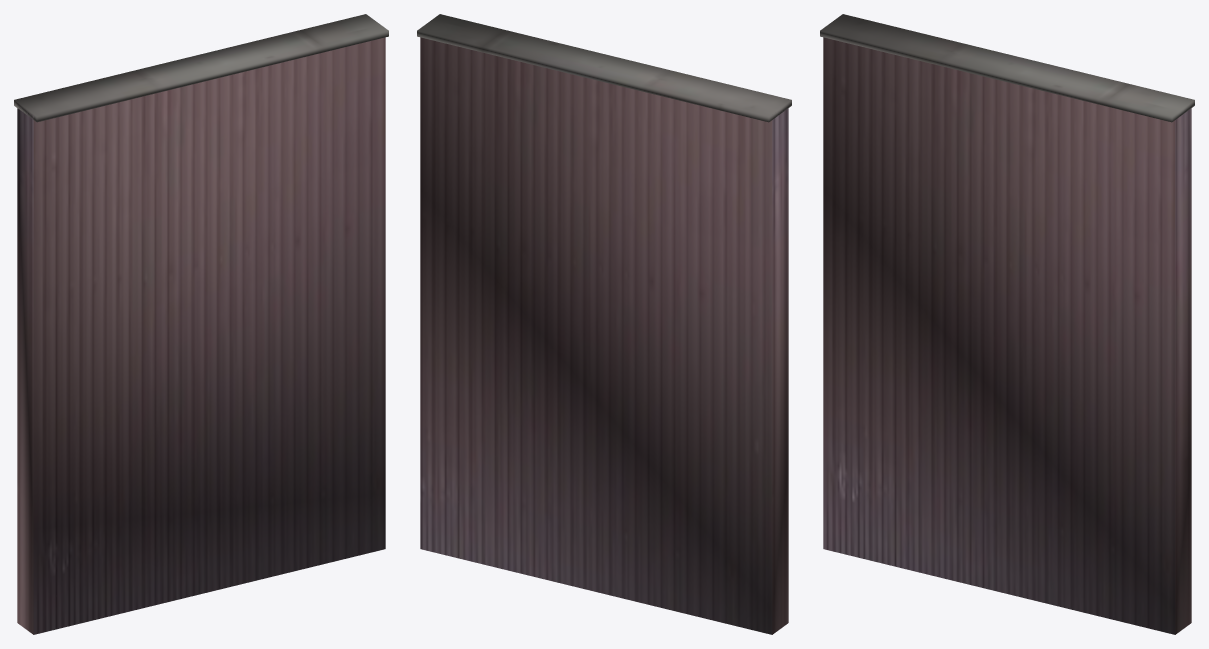
Rendered from Wall_8.glb.
The picture shows the model from 3 angles, left to right: view 1: azimuth 30°, elevation 25°; view 2: azimuth 150°, elevation 25°; view 3: azimuth 330°, elevation 25°; orthographic projection.
Visible parts, largest first — view 1: Wall_8; view 2: Wall_8; view 3: Wall_8.
Part boxes in pixels (<box>): Wall_8: <box>14,14,388,634</box>; Wall_8: <box>417,14,791,634</box>; Wall_8: <box>820,14,1194,634</box>.
Size of the model in its own units: 5.2 by 7.34 by 0.5838.
Materials: 1 (1 with a texture image).
